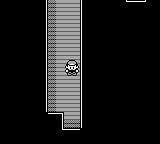main: (65, 61, 79, 76)
no-caminable: (0, 1, 158, 143)
puerta: (62, 113, 81, 130)
